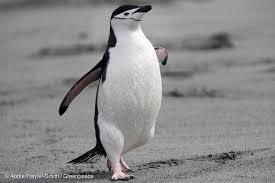chinstrap: (59, 1, 179, 183)
